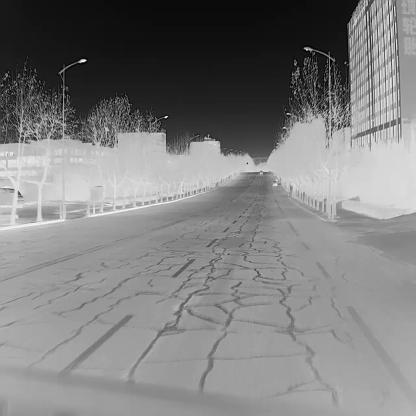car: (0, 186, 27, 210), (272, 180, 277, 186), (259, 169, 263, 175)
